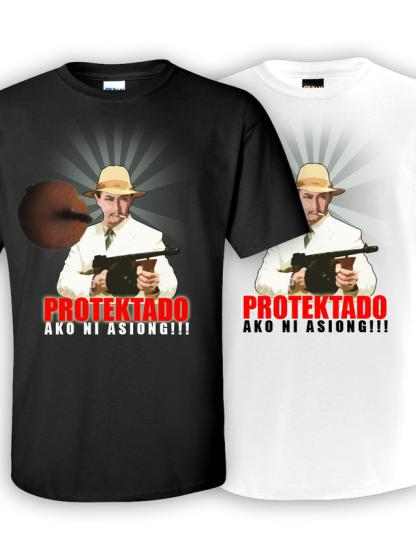Granadilla: (16, 178, 90, 252)
